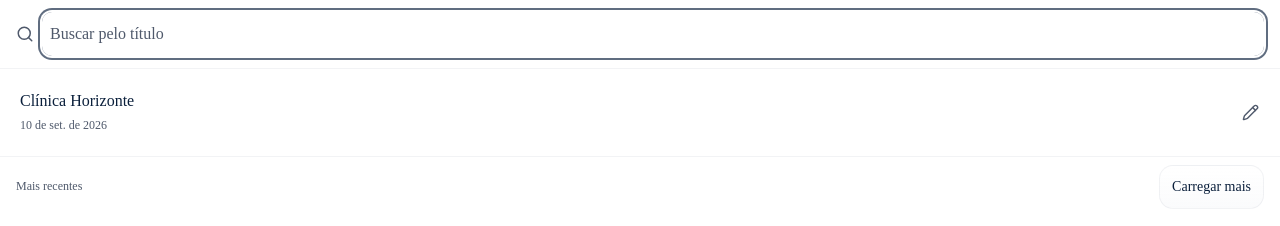
Scenario: busca conversas antigas no servidor e limpa o filtro
Type "antiga" into the search field at (653, 34), box x1=42 y1=12 x2=1264 y2=56
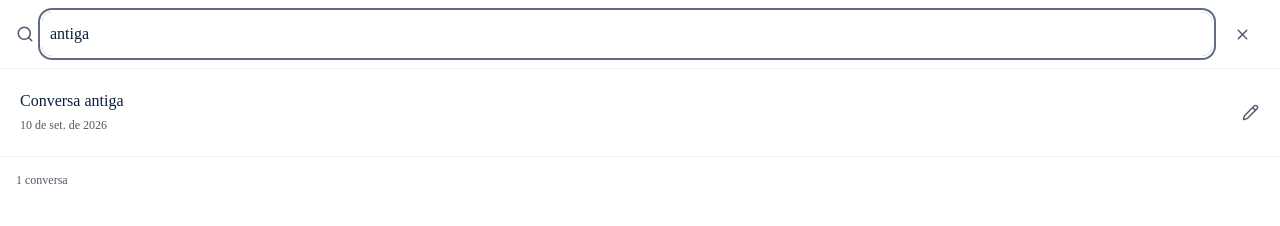
Expected: the link "Conversa antiga 10 de set. de 2026" is shown, x1=20 y1=92 x2=124 y2=132
Click the button named "Limpar busca" at (1242, 34), box x1=1220 y1=12 x2=1264 y2=56
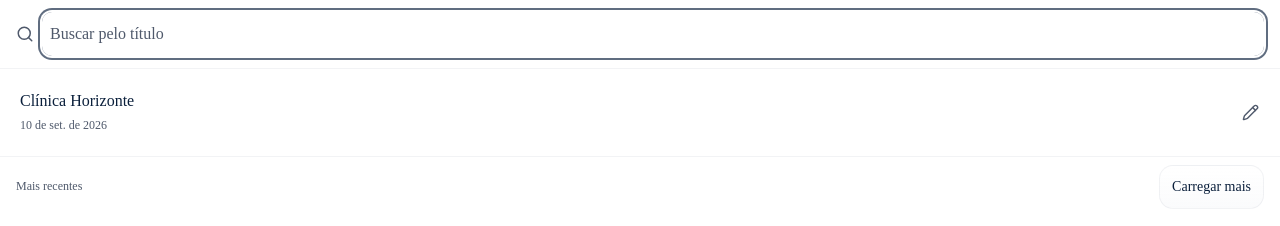
Expected: the link "Clínica Horizonte 10 de set. de 2026" is shown, x1=20 y1=92 x2=134 y2=132
